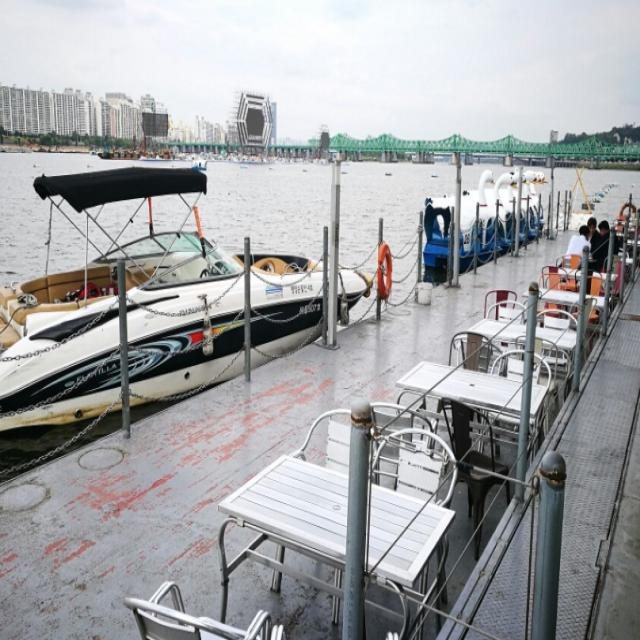houseboat: (0, 195, 337, 369), (417, 154, 565, 241)
